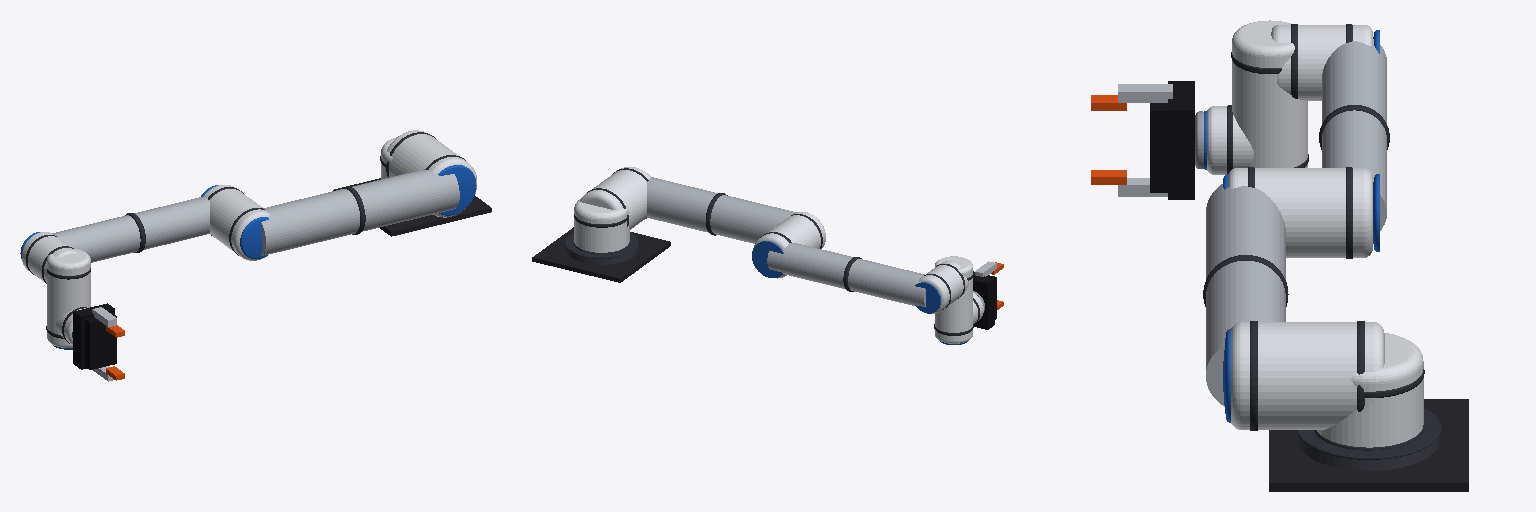
URDF robot description (sixaxis_ur5like):
<?xml version="1.0"?>
<robot name="sixaxis_ur5like">
  <material name="housing"><color rgba="0.86 0.87 0.89 1.0"/></material>
  <material name="tube"><color rgba="0.72 0.74 0.77 1.0"/></material>
  <material name="cap"><color rgba="0.16 0.42 0.78 1.0"/></material>
  <material name="ring"><color rgba="0.22 0.23 0.26 1.0"/></material>
  <material name="base"><color rgba="0.28 0.29 0.32 1.0"/></material>
  <material name="plate"><color rgba="0.18 0.18 0.2 1.0"/></material>
  <material name="flange"><color rgba="0.62 0.64 0.67 1.0"/></material>
  <material name="tcp"><color rgba="0.95 0.55 0.1 1.0"/></material>
  <link name="base_link">
    <inertial><mass value="1"/><inertia ixx="1" iyy="1" izz="1" ixy="0" ixz="0" iyz="0"/></inertial>
    <visual><origin xyz="0.0 0.0 0.005" rpy="0.0 0.0 0.0"/><geometry><box size="0.22 0.22 0.01"/></geometry><material name="plate"/></visual>
    <collision><origin xyz="0.0 0.0 0.005" rpy="0.0 0.0 0.0"/><geometry><box size="0.22 0.22 0.01"/></geometry></collision>
    <visual><origin xyz="0.0 0.0 0.0185" rpy="0.0 0.0 0.0"/><geometry><mesh filename="meshes/housing_L0170_R0780.obj" scale="1 1 1"/></geometry><material name="base"/></visual>
    <collision><origin xyz="0.0 0.0 0.0185" rpy="0.0 0.0 0.0"/><geometry><cylinder length="0.017" radius="0.078"/></geometry></collision>
    <visual><origin xyz="0.0 0.0 0.0255" rpy="0.0 0.0 0.0"/><geometry><mesh filename="meshes/ring_L0030_R0800.obj" scale="1 1 1"/></geometry><material name="ring"/></visual>
  </link>
  <link name="link1">
    <inertial><origin xyz="0.0 0.0 0.0445795" rpy="0.0 0.0 0.0"/><mass value="3.7"/><inertia ixx="0.005781042578308333" iyy="0.005781042578308333" izz="0.00666" ixy="0" ixz="0" iyz="0"/></inertial>
    <visual><origin xyz="0.0 0.0 0.06" rpy="0.0 0.0 0.0"/><geometry><mesh filename="meshes/housing_L1200_R0600.obj" scale="1 1 1"/></geometry><material name="housing"/></visual>
    <collision><origin xyz="0.0 0.0 0.06" rpy="0.0 0.0 0.0"/><geometry><cylinder length="0.12" radius="0.06"/></geometry></collision>
    <visual><origin xyz="0.0 0.0 0.025999999999999995" rpy="0.0 0.0 0.0"/><geometry><mesh filename="meshes/ring_L0100_R0612.obj" scale="1 1 1"/></geometry><material name="ring"/></visual>
    <visual><origin xyz="0.0 0.0 0.094" rpy="0.0 0.0 0.0"/><geometry><mesh filename="meshes/ring_L0100_R0612.obj" scale="1 1 1"/></geometry><material name="ring"/></visual>
  </link>
  <link name="link2">
    <inertial><origin xyz="-0.2125 0.0 0.0" rpy="0.0 -1.5707963267948966 0.0"/><mass value="8.393"/><inertia ixx="0.13267934166666667" iyy="0.13267934166666667" izz="0.012694412500000002" ixy="0" ixz="0" iyz="0"/></inertial>
    <visual><origin xyz="0.0 0.0 0.068" rpy="0.0 0.0 0.0"/><geometry><mesh filename="meshes/housing_L1700_R0600.obj" scale="1 1 1"/></geometry><material name="housing"/></visual>
    <collision><origin xyz="0.0 0.0 0.068" rpy="0.0 0.0 0.0"/><geometry><cylinder length="0.17" radius="0.06"/></geometry></collision>
    <visual><origin xyz="0.0 0.0 0.008999999999999994" rpy="0.0 0.0 0.0"/><geometry><mesh filename="meshes/ring_L0100_R0612.obj" scale="1 1 1"/></geometry><material name="ring"/></visual>
    <visual><origin xyz="0.0 0.0 0.15600000000000003" rpy="0.0 0.0 0.0"/><geometry><mesh filename="meshes/cap_L0100_R0516.obj" scale="1 1 1"/></geometry><material name="cap"/></visual>
    <visual><origin xyz="0.0 0.0 0.127" rpy="0.0 0.0 0.0"/><geometry><mesh filename="meshes/ring_L0100_R0612.obj" scale="1 1 1"/></geometry><material name="ring"/></visual>
    <visual><origin xyz="-0.2125 0.0 0.13585" rpy="0.0 -1.5707963267948966 0.0"/><geometry><mesh filename="meshes/tube_L4250_R0440.obj" scale="1 1 1"/></geometry><material name="tube"/></visual>
    <collision><origin xyz="-0.2125 0.0 0.13585" rpy="0.0 -1.5707963267948966 0.0"/><geometry><cylinder length="0.425" radius="0.044"/></geometry></collision>
    <visual><origin xyz="-0.2125 0.0 0.13585" rpy="-0.0 1.5707963267948966 0.0"/><geometry><mesh filename="meshes/ring_L0120_R0470.obj" scale="1 1 1"/></geometry><material name="ring"/></visual>
  </link>
  <link name="link3">
    <inertial><origin xyz="-0.196125 0.0 0.0" rpy="0.0 -1.5707963267948966 0.0"/><mass value="2.275"/><inertia ixx="0.030321022265624994" iyy="0.030321022265624994" izz="0.0023034375" ixy="0" ixz="0" iyz="0"/></inertial>
    <visual><origin xyz="0.0 0.0 0.076" rpy="0.0 0.0 0.0"/><geometry><mesh filename="meshes/housing_L1600_R0500.obj" scale="1 1 1"/></geometry><material name="housing"/></visual>
    <collision><origin xyz="0.0 0.0 0.076" rpy="0.0 0.0 0.0"/><geometry><cylinder length="0.16" radius="0.05"/></geometry></collision>
    <visual><origin xyz="0.0 0.0 -0.007000000000000006" rpy="0.0 0.0 0.0"/><geometry><mesh filename="meshes/cap_L0100_R0430.obj" scale="1 1 1"/></geometry><material name="cap"/></visual>
    <visual><origin xyz="0.0 0.0 0.021999999999999992" rpy="0.0 0.0 0.0"/><geometry><mesh filename="meshes/ring_L0100_R0510.obj" scale="1 1 1"/></geometry><material name="ring"/></visual>
    <visual><origin xyz="0.0 0.0 0.159" rpy="0.0 0.0 0.0"/><geometry><mesh filename="meshes/cap_L0100_R0430.obj" scale="1 1 1"/></geometry><material name="cap"/></visual>
    <visual><origin xyz="0.0 0.0 0.13" rpy="0.0 0.0 0.0"/><geometry><mesh filename="meshes/ring_L0100_R0510.obj" scale="1 1 1"/></geometry><material name="ring"/></visual>
    <visual><origin xyz="-0.196125 0.0 0.016149999999999998" rpy="0.0 -1.5707963267948966 0.0"/><geometry><mesh filename="meshes/tube_L3922_R0360.obj" scale="1 1 1"/></geometry><material name="tube"/></visual>
    <collision><origin xyz="-0.196125 0.0 0.016149999999999998" rpy="0.0 -1.5707963267948966 0.0"/><geometry><cylinder length="0.39225" radius="0.036"/></geometry></collision>
    <visual><origin xyz="-0.196125 0.0 0.016149999999999998" rpy="-0.0 1.5707963267948966 0.0"/><geometry><mesh filename="meshes/ring_L0120_R0390.obj" scale="1 1 1"/></geometry><material name="ring"/></visual>
  </link>
  <link name="link4">
    <inertial><origin xyz="0.0 0.0 0.054575" rpy="0.0 0.0 0.0"/><mass value="1.219"/><inertia ixx="0.0016978356439583335" iyy="0.0016978356439583335" izz="0.0009752000000000001" ixy="0" ixz="0" iyz="0"/></inertial>
    <visual><origin xyz="0.0 0.0 0.052" rpy="0.0 0.0 0.0"/><geometry><mesh filename="meshes/housing_L1120_R0420.obj" scale="1 1 1"/></geometry><material name="housing"/></visual>
    <collision><origin xyz="0.0 0.0 0.052" rpy="0.0 0.0 0.0"/><geometry><cylinder length="0.112" radius="0.042"/></geometry></collision>
    <visual><origin xyz="0.0 0.0 -0.006999999999999999" rpy="0.0 0.0 0.0"/><geometry><mesh filename="meshes/cap_L0100_R0361.obj" scale="1 1 1"/></geometry><material name="cap"/></visual>
    <visual><origin xyz="0.0 0.0 0.021999999999999995" rpy="0.0 0.0 0.0"/><geometry><mesh filename="meshes/ring_L0100_R0428.obj" scale="1 1 1"/></geometry><material name="ring"/></visual>
    <visual><origin xyz="0.0 0.0 0.082" rpy="0.0 0.0 0.0"/><geometry><mesh filename="meshes/ring_L0100_R0428.obj" scale="1 1 1"/></geometry><material name="ring"/></visual>
  </link>
  <link name="link5">
    <inertial><origin xyz="0.0 0.0 0.047325" rpy="0.0 0.0 0.0"/><mass value="1.219"/><inertia ixx="0.001397646735625" iyy="0.001397646735625" izz="0.0009752000000000001" ixy="0" ixz="0" iyz="0"/></inertial>
    <visual><origin xyz="0.0 0.0 0.0535" rpy="0.0 0.0 0.0"/><geometry><mesh filename="meshes/housing_L1770_R0420.obj" scale="1 1 1"/></geometry><material name="housing"/></visual>
    <collision><origin xyz="0.0 0.0 0.0535" rpy="0.0 0.0 0.0"/><geometry><cylinder length="0.177" radius="0.042"/></geometry></collision>
    <visual><origin xyz="0.0 0.0 -0.009000000000000001" rpy="0.0 0.0 0.0"/><geometry><mesh filename="meshes/ring_L0100_R0428.obj" scale="1 1 1"/></geometry><material name="ring"/></visual>
    <visual><origin xyz="0.0 0.0 0.145" rpy="0.0 0.0 0.0"/><geometry><mesh filename="meshes/cap_L0100_R0361.obj" scale="1 1 1"/></geometry><material name="cap"/></visual>
    <visual><origin xyz="0.0 0.0 0.11599999999999999" rpy="0.0 0.0 0.0"/><geometry><mesh filename="meshes/ring_L0100_R0428.obj" scale="1 1 1"/></geometry><material name="ring"/></visual>
  </link>
  <link name="link6">
    <inertial><origin xyz="0.0 0.0 0.04115" rpy="0.0 0.0 0.0"/><mass value="0.1879"/><inertia ixx="0.00016360280758333335" iyy="0.00016360280758333335" izz="0.00011508875000000002" ixy="0" ixz="0" iyz="0"/></inertial>
    <visual><origin xyz="0.0 0.0 0.0275" rpy="0.0 0.0 0.0"/><geometry><mesh filename="meshes/housing_L0850_R0380.obj" scale="1 1 1"/></geometry><material name="housing"/></visual>
    <collision><origin xyz="0.0 0.0 0.0275" rpy="0.0 0.0 0.0"/><geometry><cylinder length="0.085" radius="0.038"/></geometry></collision>
    <visual><origin xyz="0.0 0.0 0.010999999999999996" rpy="0.0 0.0 0.0"/><geometry><mesh filename="meshes/ring_L0100_R0388.obj" scale="1 1 1"/></geometry><material name="ring"/></visual>
    <visual><origin xyz="0.0 0.0 0.073" rpy="0.0 0.0 0.0"/><geometry><mesh filename="meshes/cap_L0100_R0327.obj" scale="1 1 1"/></geometry><material name="cap"/></visual>
    <visual><origin xyz="0.0 0.0 0.044000000000000004" rpy="0.0 0.0 0.0"/><geometry><mesh filename="meshes/ring_L0100_R0388.obj" scale="1 1 1"/></geometry><material name="ring"/></visual>
    <visual><origin xyz="0.0 0.0 0.07629999999999999" rpy="0.0 0.0 0.0"/><geometry><mesh filename="meshes/ring_L0120_R0320.obj" scale="1 1 1"/></geometry><material name="flange"/></visual>
    <collision><origin xyz="0.0 0.0 0.07629999999999999" rpy="0.0 0.0 0.0"/><geometry><cylinder length="0.012" radius="0.032"/></geometry></collision>
    <visual><origin xyz="0.0 0.0 0.0818" rpy="0.0 0.0 0.0"/><geometry><cylinder length="0.001" radius="0.01"/></geometry><material name="tcp"/></visual>
  </link>
  <link name="flange"><inertial><mass value="1e-06"/><inertia ixx="1e-12" iyy="1e-12" izz="1e-12" ixy="0" ixz="0" iyz="0"/></inertial></link>
  <joint name="joint1" type="revolute"><parent link="base_link"/><child link="link1"/><origin xyz="0.0 0.0 0.0" rpy="0.0 0.0 0.0"/><axis xyz="0 0 1"/><limit lower="-6.283185307179586" upper="6.283185307179586" effort="150.0" velocity="3.141592653589793"/></joint>
  <joint name="joint2" type="revolute"><parent link="link1"/><child link="link2"/><origin xyz="0.0 0.0 0.089159" rpy="1.5707963267948966 0.0 0.0"/><axis xyz="0 0 1"/><limit lower="-6.283185307179586" upper="6.283185307179586" effort="150.0" velocity="3.141592653589793"/></joint>
  <joint name="joint3" type="revolute"><parent link="link2"/><child link="link3"/><origin xyz="-0.425 0.0 0.0" rpy="0.0 0.0 0.0"/><axis xyz="0 0 1"/><limit lower="-6.283185307179586" upper="6.283185307179586" effort="150.0" velocity="3.141592653589793"/></joint>
  <joint name="joint4" type="revolute"><parent link="link3"/><child link="link4"/><origin xyz="-0.39225 0.0 0.0" rpy="0.0 0.0 0.0"/><axis xyz="0 0 1"/><limit lower="-6.283185307179586" upper="6.283185307179586" effort="28.0" velocity="3.141592653589793"/></joint>
  <joint name="joint5" type="revolute"><parent link="link4"/><child link="link5"/><origin xyz="0.0 0.0 0.10915" rpy="1.5707963267948966 0.0 0.0"/><axis xyz="0 0 1"/><limit lower="-6.283185307179586" upper="6.283185307179586" effort="28.0" velocity="3.141592653589793"/></joint>
  <joint name="joint6" type="revolute"><parent link="link5"/><child link="link6"/><origin xyz="0.0 0.0 0.09465" rpy="-1.5707963267948966 0.0 0.0"/><axis xyz="0 0 1"/><limit lower="-6.283185307179586" upper="6.283185307179586" effort="28.0" velocity="3.141592653589793"/></joint>
  <joint name="flange_joint" type="fixed"><parent link="link6"/><child link="flange"/><origin xyz="0.0 0.0 0.0823" rpy="0.0 0.0 0.0"/></joint>
  <material name="gbody"><color rgba="0.12 0.12 0.14 1"/></material>
  <material name="gfinger"><color rgba="0.75 0.77 0.80 1"/></material>
  <material name="gpad"><color rgba="0.9 0.35 0.1 1"/></material>
  <link name="gripper_base"><inertial><mass value="0.45"/><origin xyz="0 0 0.03"/><inertia ixx="1e-4" iyy="1e-4" izz="5e-5" ixy="0" ixz="0" iyz="0"/></inertial><visual><origin xyz="0 0 0.015"/><geometry><box size="0.075 0.11 0.03"/></geometry><material name="gbody"/></visual><collision><origin xyz="0 0 0.015"/><geometry><box size="0.075 0.11 0.03"/></geometry></collision><visual><origin xyz="0 0 0.04"/><geometry><box size="0.06 0.1 0.02"/></geometry><material name="gbody"/></visual><collision><origin xyz="0 0 0.04"/><geometry><box size="0.06 0.1 0.02"/></geometry></collision></link>
  <link name="finger_l"><inertial><mass value="0.05"/><origin xyz="0 0 0.03"/><inertia ixx="1e-4" iyy="1e-4" izz="5e-5" ixy="0" ixz="0" iyz="0"/></inertial><visual><origin xyz="0 0.012 0.055"/><geometry><box size="0.02 0.014 0.06"/></geometry><material name="gfinger"/></visual><visual><origin xyz="0 0 0.095"/><geometry><box size="0.02 0.01 0.04"/></geometry><material name="gpad"/></visual><collision><origin xyz="0 0 0.095"/><geometry><box size="0.02 0.01 0.04"/></geometry></collision></link>
  <link name="finger_r"><inertial><mass value="0.05"/><origin xyz="0 0 0.03"/><inertia ixx="1e-4" iyy="1e-4" izz="5e-5" ixy="0" ixz="0" iyz="0"/></inertial><visual><origin xyz="0 -0.012 0.055"/><geometry><box size="0.02 0.014 0.06"/></geometry><material name="gfinger"/></visual><visual><origin xyz="0 0 0.095"/><geometry><box size="0.02 0.01 0.04"/></geometry><material name="gpad"/></visual><collision><origin xyz="0 0 0.095"/><geometry><box size="0.02 0.01 0.04"/></geometry></collision></link>
  <joint name="gripper_mount" type="fixed"><parent link="flange"/><child link="gripper_base"/></joint>
  <joint name="finger_l_joint" type="prismatic"><parent link="gripper_base"/><child link="finger_l"/><origin xyz="0 0.045 0"/><axis xyz="0 -1 0"/><limit lower="0" upper="0.04" effort="235.0" velocity="0.15"/></joint>
  <joint name="finger_r_joint" type="prismatic"><parent link="gripper_base"/><child link="finger_r"/><origin xyz="0 -0.045 0"/><axis xyz="0 1 0"/><limit lower="0" upper="0.04" effort="235.0" velocity="0.15"/></joint>
</robot>

--- What the picture shows (computed from the rendered views, not written in the file) ---
Views: 3 orthographic renders of the robot side by side, from view 1: azimuth 30°, elevation 25°; view 2: azimuth 150°, elevation 25°; view 3: azimuth 270°, elevation 25°.
Robot: sixaxis_ur5like — 11 links, 10 joints (6 revolute, 2 prismatic, 2 fixed); root link base_link; default pose: every joint at zero.
Visible links, largest first — view 1: link2, link3, link5, gripper_base, link4, base_link; view 2: link2, link3, base_link, link1, link5, link4, gripper_base; view 3: link2, link3, base_link, link5, link1, gripper_base, link4, link6, finger_l, finger_r.
Link boxes in pixels (box(x1,y1,x2,y2)): link2: box(261, 130, 476, 255); link3: box(52, 185, 269, 262); link5: box(46, 249, 90, 349); gripper_base: box(73, 303, 116, 369); link4: box(20, 232, 76, 283); base_link: box(333, 178, 491, 236); link2: box(580, 167, 795, 243); link3: box(752, 212, 925, 306); base_link: box(532, 227, 670, 282); link1: box(574, 200, 629, 253); link5: box(934, 256, 973, 344); link4: box(915, 261, 968, 313); gripper_base: box(973, 271, 996, 329); link2: box(1203, 184, 1384, 430); link3: box(1223, 39, 1389, 258); base_link: box(1269, 399, 1468, 491); link5: box(1231, 20, 1308, 167); link1: box(1314, 333, 1424, 450); gripper_base: box(1150, 81, 1194, 199); link4: box(1271, 24, 1379, 100); link6: box(1195, 105, 1253, 174); finger_l: box(1091, 84, 1172, 110); finger_r: box(1091, 170, 1167, 196).
Bounding box of the posed robot: 0.9701 × 0.4165 × 0.2199 m (x, y, z).
Meshes: 21 distinct files referenced, 31 mesh visuals loaded (21 OBJ).
